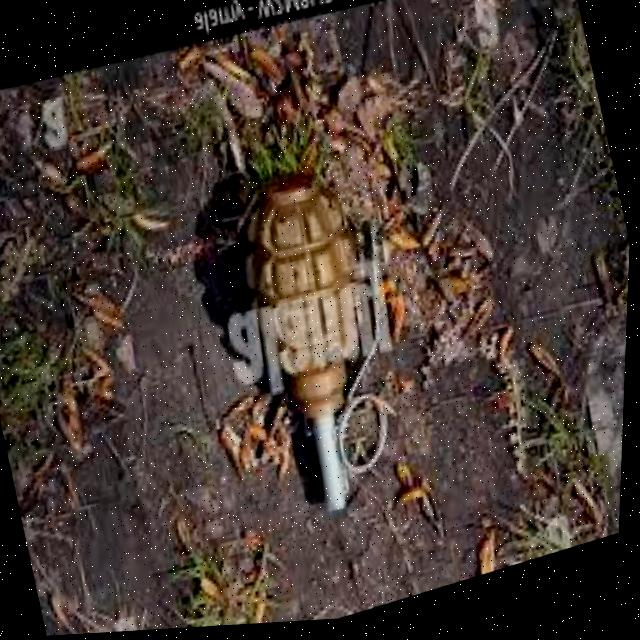grenade: (175, 141, 440, 552)
